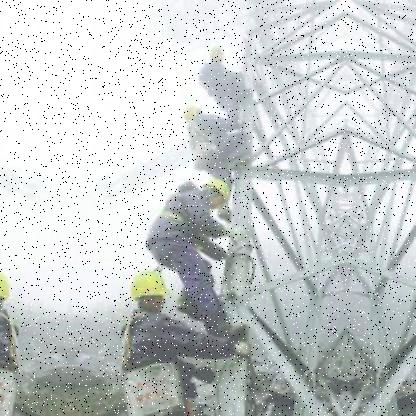Helmet: (127, 271, 170, 311), (206, 178, 230, 211), (178, 101, 204, 124), (206, 46, 227, 61)
